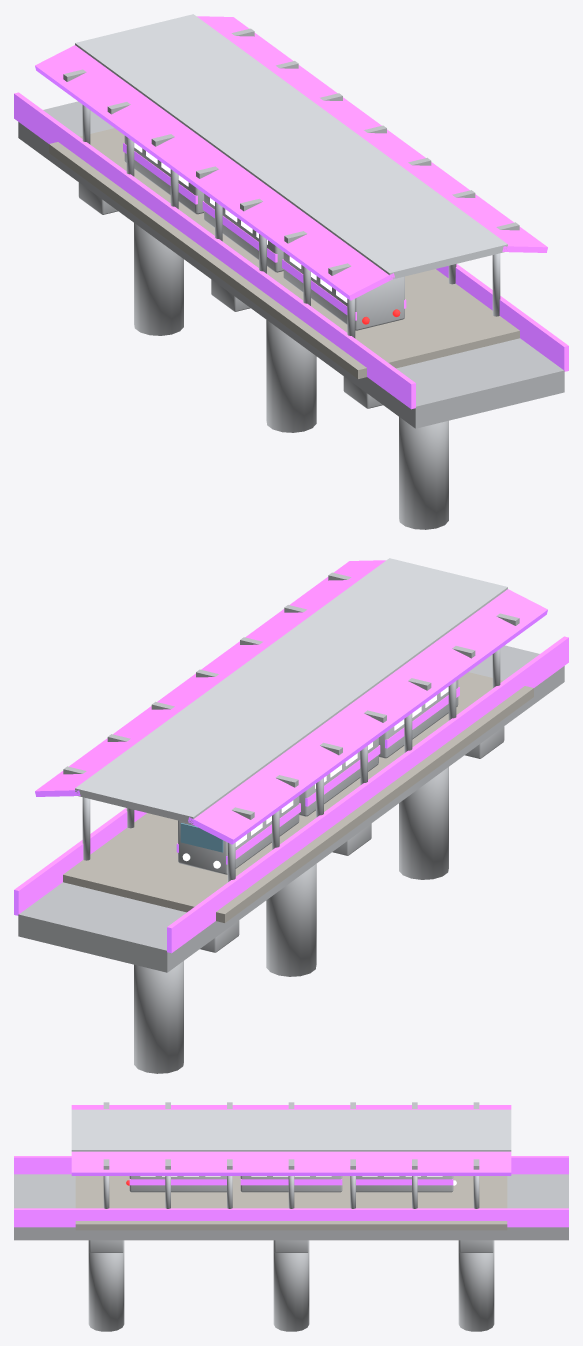
File: metro_station.glb
3 renders of one model, top to bottom at view 1: azimuth 30°, elevation 25°; view 2: azimuth 150°, elevation 25°; view 3: azimuth 270°, elevation 25°, orthographic. The views are drawn at different scales.
Visible parts, largest first — view 1: Station_Structure, Metro_Train; view 2: Station_Structure, Metro_Train; view 3: Station_Structure, Metro_Train.
Part boxes in pixels (x1,y1,x2,y2): Station_Structure: [14, 14, 568, 529]; Metro_Train: [123, 136, 406, 330]; Station_Structure: [14, 558, 568, 1073]; Metro_Train: [176, 680, 459, 874]; Station_Structure: [14, 1102, 568, 1331]; Metro_Train: [126, 1176, 456, 1192].
Bounding box in the file's own units: 10.39 × 13.92 × 36.
